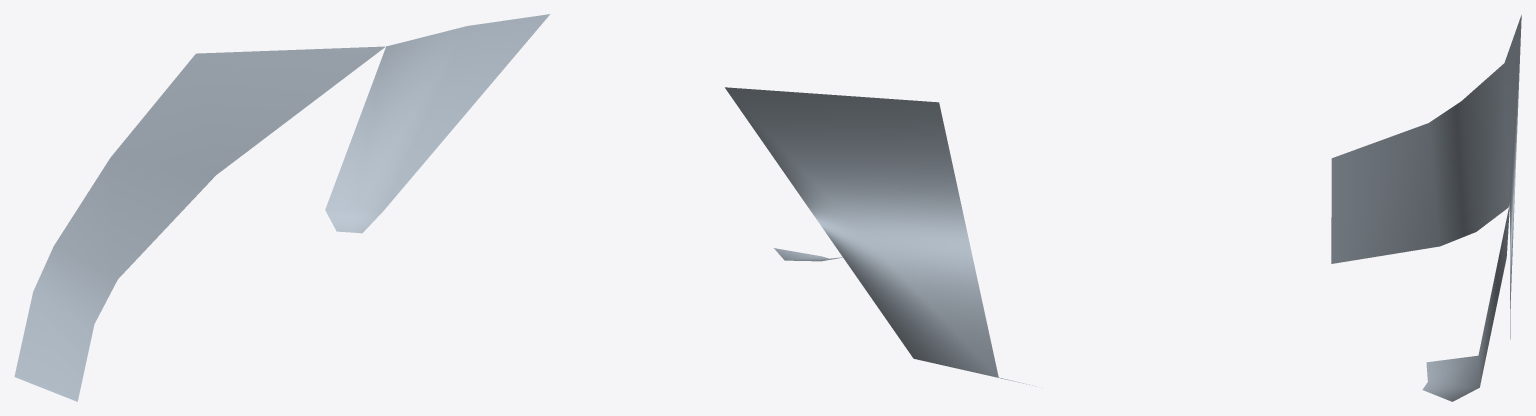
The model's file is dorsal-radiocarpal-ligament-l.glb.
3 renders of one model, left to right at view 1: azimuth 30°, elevation 25°; view 2: azimuth 150°, elevation 25°; view 3: azimuth 270°, elevation 25°, orthographic. The views are drawn at different scales.
Parts seen in each view (by area): view 1: Dorsal radiocarpal ligament.l; view 2: Dorsal radiocarpal ligament.l; view 3: Dorsal radiocarpal ligament.l.
Part boxes in pixels (x1,y1,x2,y2): Dorsal radiocarpal ligament.l: (14, 14, 549, 401); Dorsal radiocarpal ligament.l: (725, 87, 1036, 386); Dorsal radiocarpal ligament.l: (1331, 15, 1521, 401).
Size of the model in its own units: 0.0333 by 0.0142 by 0.00642.
